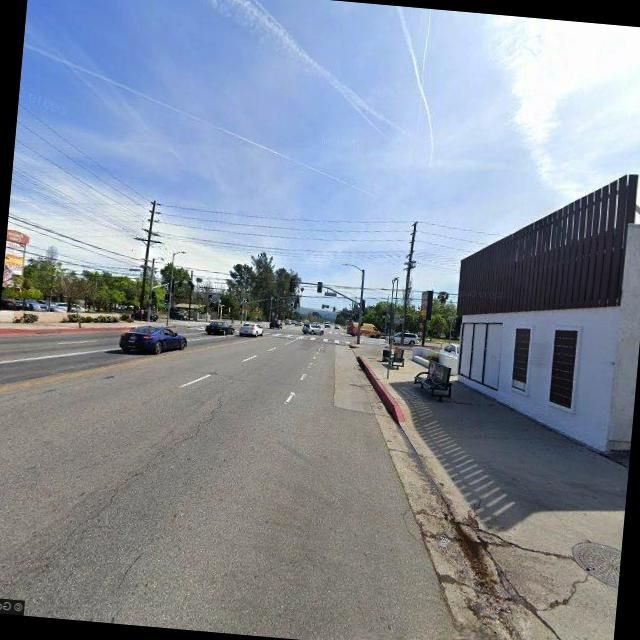pothole: (26, 366, 234, 584)
